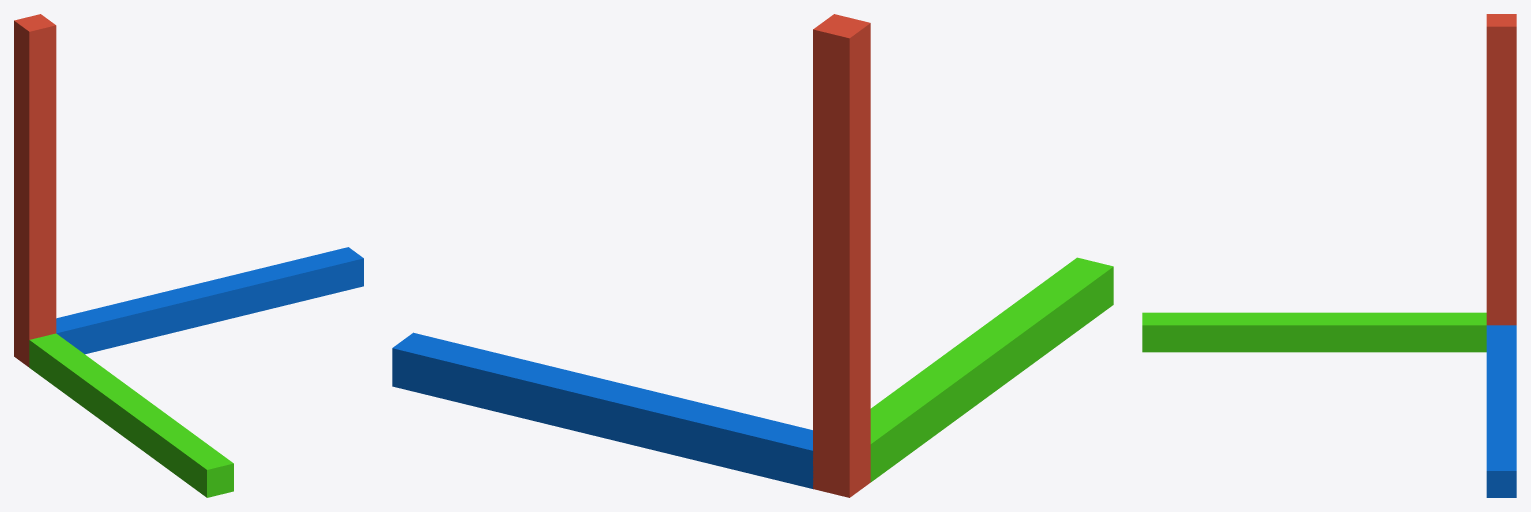
File: Debug_Module.glb
3 views of the same model, side by side, from view 1: azimuth 30°, elevation 25°; view 2: azimuth 150°, elevation 25°; view 3: azimuth 270°, elevation 25° (orthographic). The views are drawn at different scales.
Parts seen in each view (by area): view 1: Cube.002, Cube.001, Cube; view 2: Cube.002, Cube.001, Cube; view 3: Cube, Cube.002, Cube.001.
Part boxes in pixels (left/top/right/bottom): Cube.002: left=14, top=14, right=56, bottom=367; Cube.001: left=56, top=247, right=363, bottom=354; Cube: left=29, top=333, right=233, bottom=497; Cube.002: left=813, top=14, right=870, bottom=497; Cube.001: left=392, top=332, right=813, bottom=488; Cube: left=870, top=257, right=1113, bottom=482; Cube: left=1142, top=312, right=1486, bottom=352; Cube.002: left=1486, top=14, right=1516, bottom=325; Cube.001: left=1486, top=325, right=1516, bottom=497.
Size of the model in its own units: 12.5 by 12 by 12.5.
